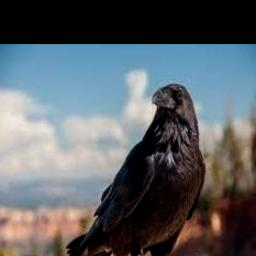Crow: (67, 83, 204, 256)
